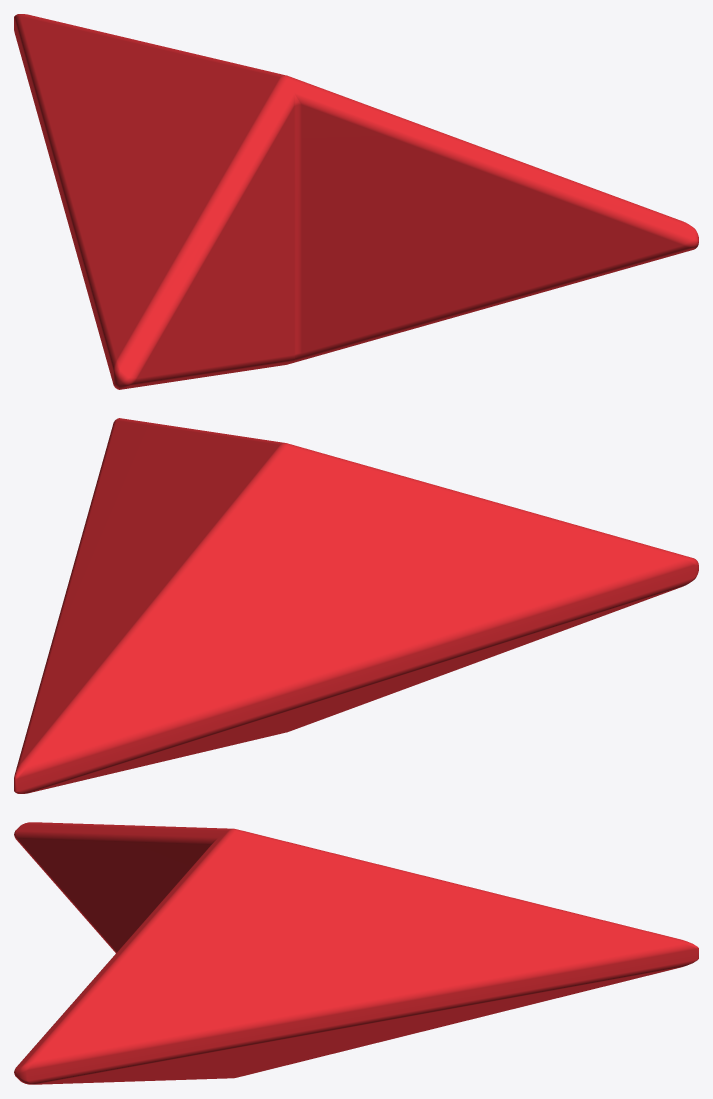
File: arrow.glb
3 views of the same model, one above another, from view 1: azimuth 30°, elevation 25°; view 2: azimuth 150°, elevation 25°; view 3: azimuth 270°, elevation 25° (orthographic). The views are drawn at different scales.
Visible parts, largest first — view 1: Cube; view 2: Cube; view 3: Cube.
Boxes of the visible parts, x1,y1,x2,y2 form: Cube: (14,14,698,389); Cube: (14,418,698,793); Cube: (14,822,698,1084).
Bounding box in the file's own units: 0.1255 × 0.0593 × 0.1483.
